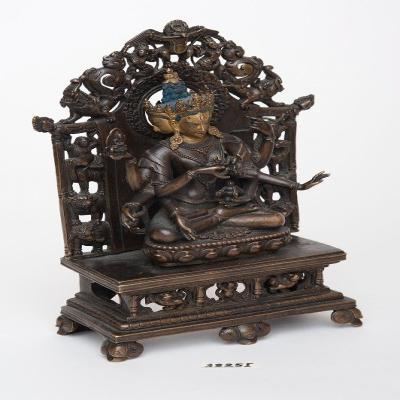sculpture: (32, 20, 363, 364)
